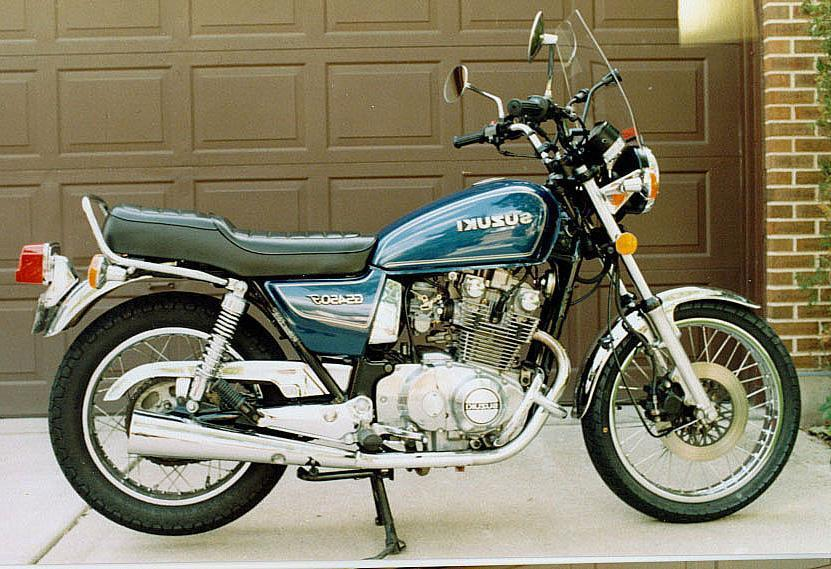motorcycle: (1, 13, 831, 551)
